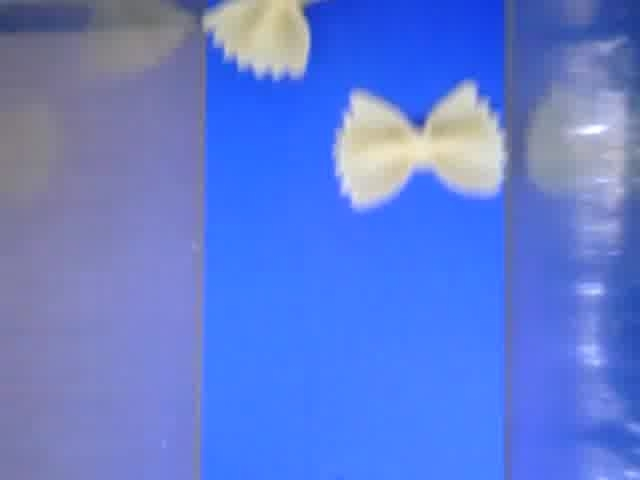farfalle: (333, 79, 507, 212), (200, 1, 312, 81)
